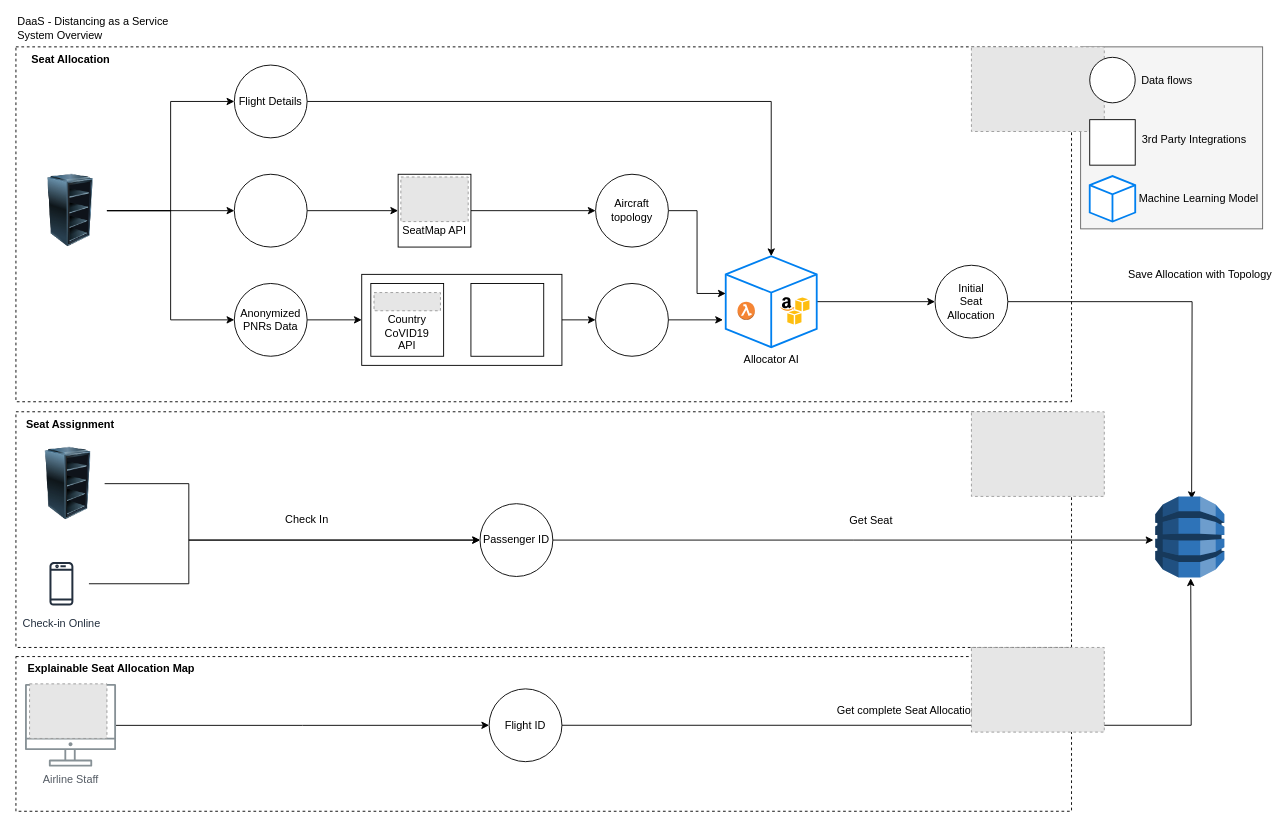
Some shapes in this 1288 by 827 pixel diagram are drawn without their labels. Grey dashed boxes stand in for pictures. The shapes that lost their labels are listed below. From the top down, each one's centre as x and y in pixels, then its label:
At [70,210]: "DCS".
At [270,210]: "Aircraft ID".
At [507,319]: "Goverments open data".
At [631,319]: "Risk Factor".
At [67,483]: "DCS (Internal Check-in)".
At [1189,536]: "Flight Allocations HA DB".
